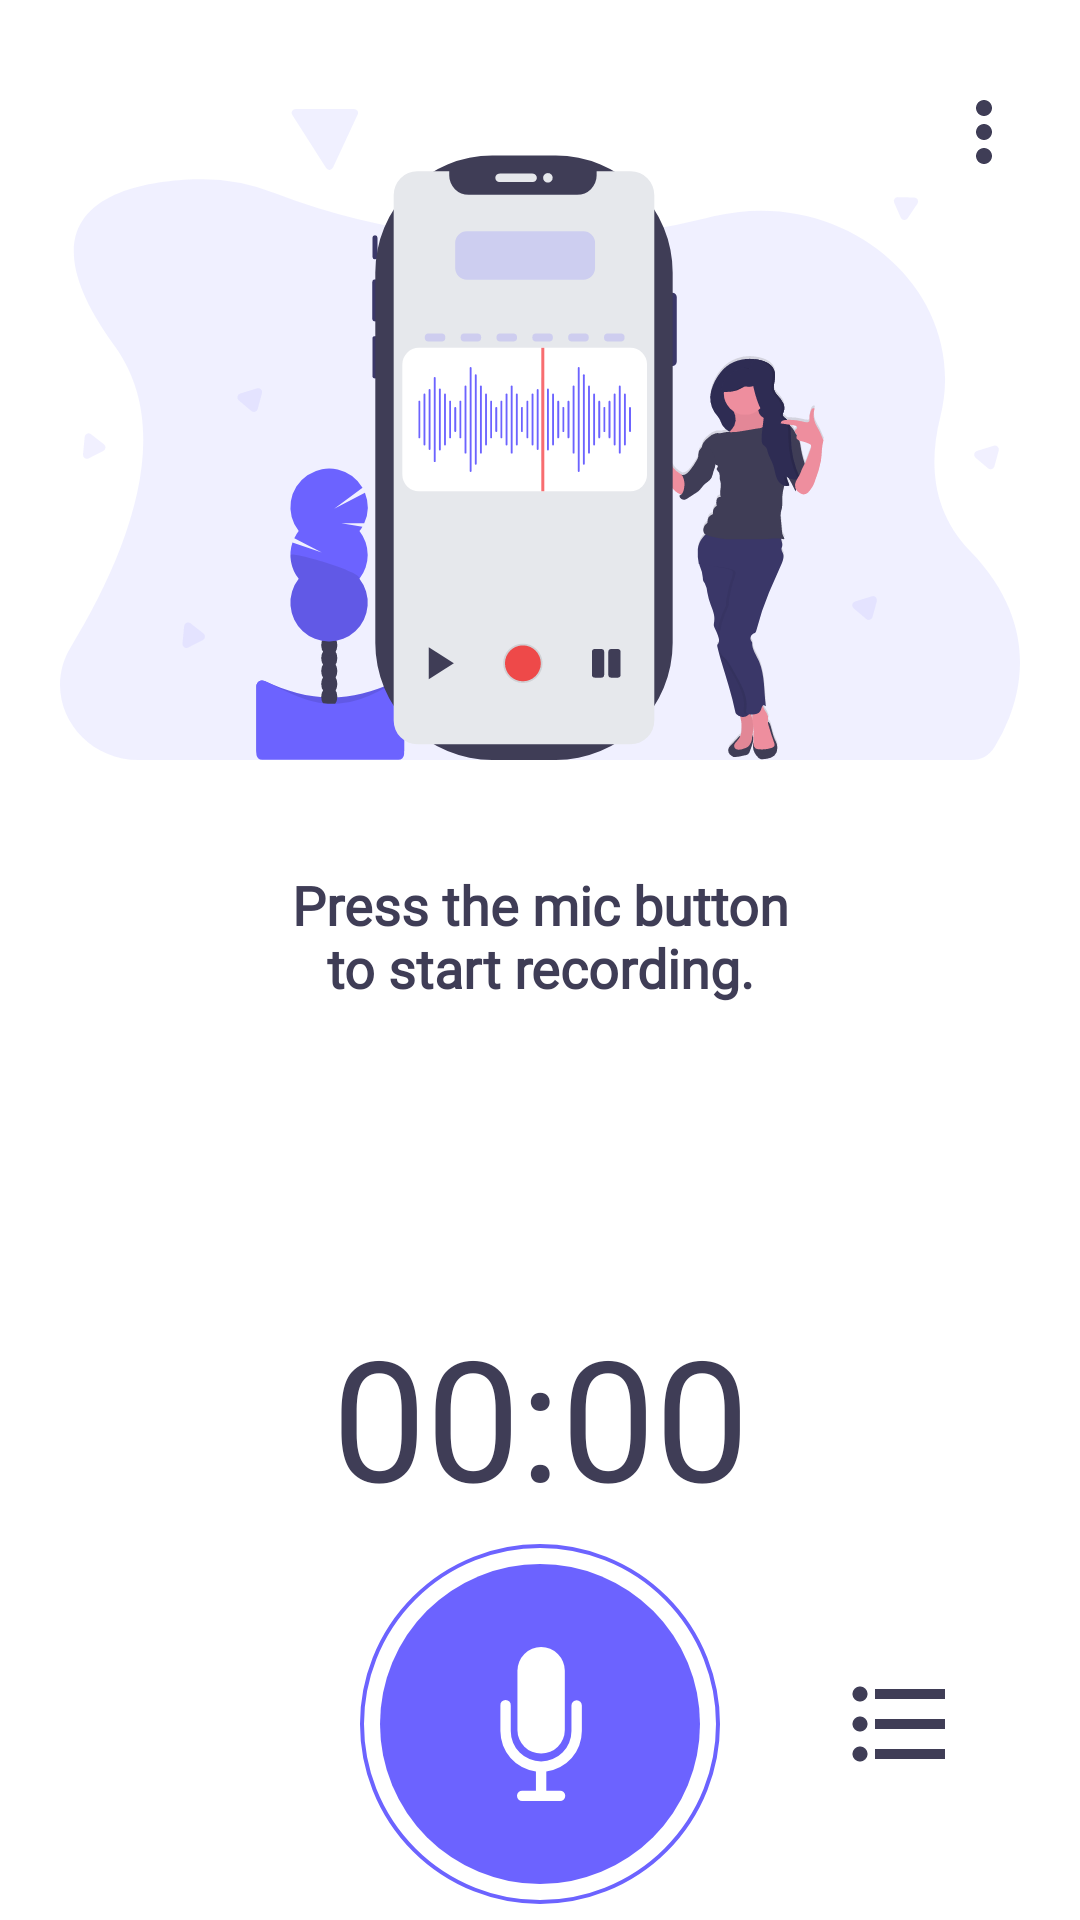

Screen size 1080 × 1920. Icon name, then its center in pixels as [x,y]:
options menu: [984,132]
record list: [898,1724]
record stopped: [540,1724]
